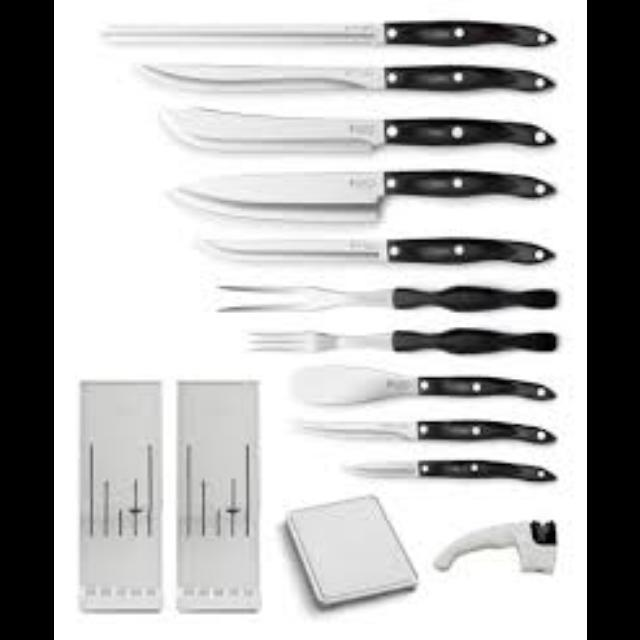Knife: (157, 104, 555, 150), (98, 19, 554, 47), (133, 60, 554, 90), (170, 170, 556, 202), (290, 364, 554, 404), (197, 234, 556, 262), (212, 284, 554, 312), (243, 328, 557, 354), (301, 420, 555, 442), (342, 458, 554, 482)
